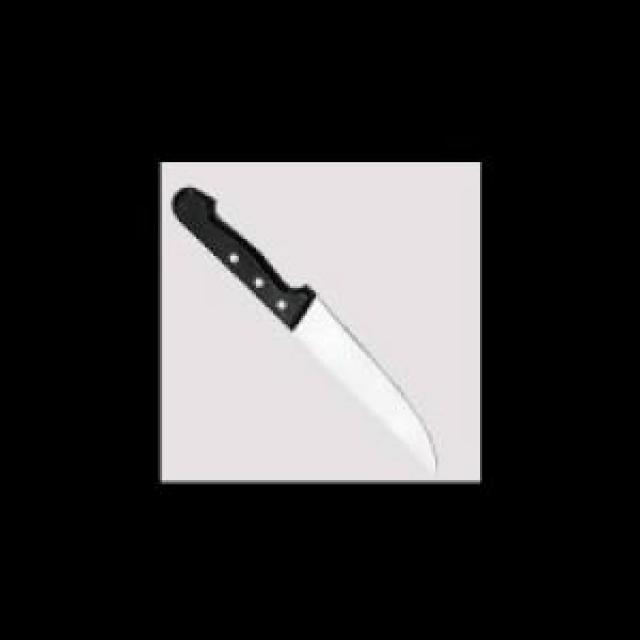knife: (166, 182, 443, 472)
